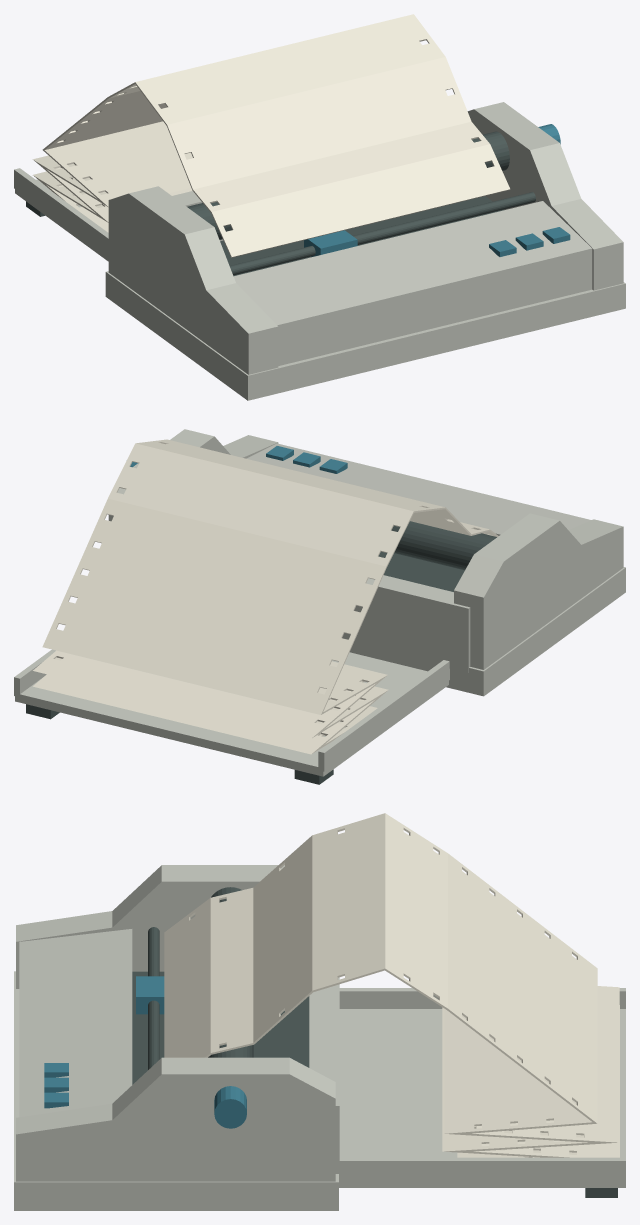
The picture shows the model from 3 angles, top to bottom: view 1: azimuth 30°, elevation 25°; view 2: azimuth 150°, elevation 25°; view 3: azimuth 270°, elevation 25°; orthographic projection. The views are drawn at different scales.
Parts seen in each view (by area): view 1: WholeContinuousThroughPerforatedFanfoldSheet, WholeSlopedFrontControlDeck, WholeLeftRaisedCaseCheek, WholeLowPrinterBase, WholeRightRaisedCaseCheek, WholeTransverseCarriageGuideRail, WholeLeftTraySideLip, WholeOpenPrintingBayFloor, WholeWideHorizontalPlaten, WholeOffsetCarriageBlock; view 2: WholeContinuousThroughPerforatedFanfoldSheet, WholeLeftRaisedCaseCheek, WholeAttachedRearReceivingTray, WholeLowRearCaseWall, WholeSlopedFrontControlDeck, WholeLowPrinterBase, WholeLeftTraySideLip, WholeWideHorizontalPlaten, WholeOpenPrintingBayFloor, WholeRightRaisedCaseCheek, WholeRightTraySideLip; view 3: WholeContinuousThroughPerforatedFanfoldSheet, WholeRightRaisedCaseCheek, WholeSlopedFrontControlDeck, WholeAttachedRearReceivingTray, WholeLowPrinterBase, WholeLeftRaisedCaseCheek, WholeRightTraySideLip, WholeOpenPrintingBayFloor, WholeLowRearCaseWall, WholeLeftTraySideLip, WholeTransverseCarriageGuideRail, WholeRightPlatenKnob (+2 smaller).
Part boxes in pixels (left/top/right/bottom): WholeContinuousThroughPerforatedFanfoldSheet: left=33, top=14, right=510, bottom=257; WholeSlopedFrontControlDeck: left=233, top=201, right=592, bottom=365; WholeLeftRaisedCaseCheek: left=108, top=186, right=278, bottom=374; WholeLowPrinterBase: left=105, top=271, right=625, bottom=400; WholeRightRaisedCaseCheek: left=467, top=102, right=623, bottom=290; WholeTransverseCarriageGuideRail: left=229, top=192, right=535, bottom=275; WholeLeftTraySideLip: left=14, top=168, right=108, bottom=257; WholeOpenPrintingBayFloor: left=220, top=196, right=503, bottom=276; WholeWideHorizontalPlaten: left=187, top=131, right=509, bottom=239; WholeOffsetCarriageBlock: left=304, top=230, right=357, bottom=256; WholeContinuousThroughPerforatedFanfoldSheet: left=33, top=439, right=498, bottom=754; WholeLeftRaisedCaseCheek: left=454, top=513, right=623, bottom=669; WholeAttachedRearReceivingTray: left=15, top=652, right=448, bottom=776; WholeLowRearCaseWall: left=342, top=575, right=470, bottom=672; WholeSlopedFrontControlDeck: left=246, top=443, right=591, bottom=535; WholeLowPrinterBase: left=350, top=567, right=625, bottom=696; WholeLeftTraySideLip: left=318, top=660, right=449, bottom=771; WholeWideHorizontalPlaten: left=391, top=521, right=496, bottom=570; WholeOpenPrintingBayFloor: left=378, top=551, right=464, bottom=591; WholeRightRaisedCaseCheek: left=108, top=429, right=278, bottom=521; WholeRightTraySideLip: left=14, top=649, right=55, bottom=696; WholeContinuousThroughPerforatedFanfoldSheet: left=164, top=813, right=619, bottom=1157; WholeRightRaisedCaseCheek: left=16, top=1057, right=335, bottom=1181; WholeSlopedFrontControlDeck: left=19, top=929, right=132, bottom=1117; WholeAttachedRearReceivingTray: left=339, top=1009, right=625, bottom=1187; WholeLowPrinterBase: left=14, top=971, right=338, bottom=1210; WholeLeftRaisedCaseCheek: left=16, top=865, right=284, bottom=988; WholeRightTraySideLip: left=339, top=1157, right=625, bottom=1182; WholeOpenPrintingBayFloor: left=132, top=971, right=309, bottom=1084; WholeLowRearCaseWall: left=309, top=977, right=339, bottom=1179; WholeLeftTraySideLip: left=339, top=988, right=625, bottom=1008; WholeTransverseCarriageGuideRail: left=148, top=927, right=159, bottom=1069; WholeRightPlatenKnob: left=214, top=1086, right=246, bottom=1128.
Bounding box in the file's own units: 0.805 × 0.3787 × 0.932.
